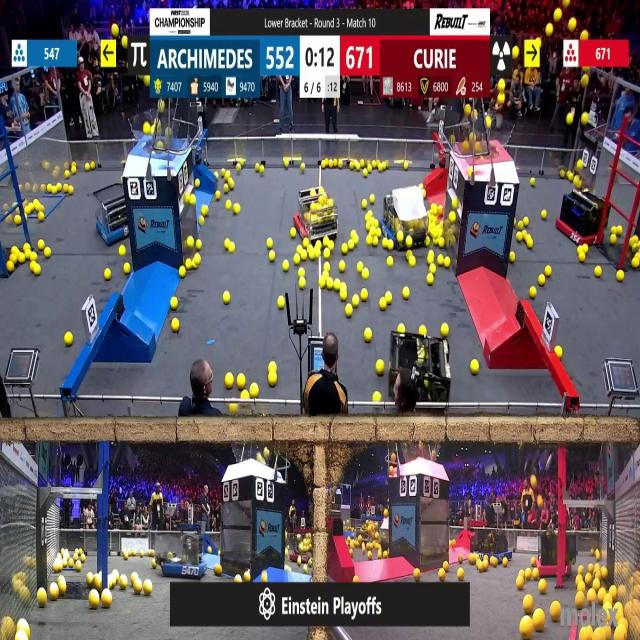ball_airborne: (530, 476, 538, 490), (582, 112, 590, 125), (554, 8, 562, 21), (567, 115, 574, 129), (582, 75, 590, 87), (568, 20, 576, 32), (545, 24, 552, 36), (464, 104, 471, 116), (498, 79, 505, 90), (498, 94, 504, 106), (144, 124, 150, 136), (112, 26, 118, 38), (514, 46, 520, 58), (144, 74, 150, 86), (582, 31, 589, 41), (536, 496, 542, 507), (462, 142, 468, 153), (474, 142, 480, 153), (120, 37, 126, 48), (562, 0, 570, 8), (486, 116, 492, 126), (576, 160, 582, 170), (158, 142, 165, 150), (265, 449, 271, 458), (256, 454, 262, 463), (161, 103, 166, 111), (472, 110, 477, 118)
ball_ground: (532, 612, 544, 632), (521, 618, 533, 638), (551, 602, 562, 620), (34, 588, 44, 606), (101, 592, 112, 608), (91, 592, 101, 609), (523, 596, 533, 613), (224, 374, 233, 390), (59, 580, 68, 596), (575, 594, 584, 609), (143, 582, 152, 596), (237, 375, 246, 389), (134, 582, 143, 596), (470, 359, 478, 374), (94, 574, 102, 589), (65, 334, 74, 347), (538, 580, 546, 594), (377, 360, 385, 374), (588, 590, 596, 604), (578, 629, 588, 640), (269, 374, 278, 386), (442, 323, 450, 336), (172, 319, 180, 332), (250, 384, 258, 397), (363, 328, 371, 341), (517, 576, 525, 589), (380, 300, 388, 312), (314, 247, 322, 259), (119, 576, 127, 588), (556, 346, 563, 359), (618, 271, 626, 282), (214, 564, 222, 575), (537, 275, 545, 286), (186, 238, 194, 249), (395, 233, 403, 244), (222, 291, 229, 303), (172, 296, 178, 310), (278, 296, 285, 308), (346, 306, 353, 318), (414, 568, 421, 580), (360, 289, 367, 301), (34, 265, 41, 277), (352, 295, 359, 307), (386, 291, 393, 303), (406, 237, 413, 249), (88, 572, 95, 584), (269, 250, 276, 262), (374, 392, 382, 402), (322, 249, 330, 259), (242, 390, 250, 400), (334, 281, 342, 291), (262, 572, 270, 582), (230, 405, 238, 415), (576, 583, 584, 593), (108, 575, 114, 588), (450, 212, 457, 223), (632, 257, 639, 268), (270, 361, 277, 372), (452, 199, 459, 210), (531, 568, 538, 579), (402, 287, 408, 299), (298, 278, 304, 290), (123, 264, 129, 276), (268, 238, 274, 250), (427, 274, 433, 286), (364, 237, 372, 246), (308, 248, 314, 260), (482, 561, 490, 570), (419, 325, 426, 335), (595, 268, 602, 278), (179, 268, 186, 278), (341, 290, 348, 300), (526, 239, 533, 249), (370, 237, 377, 247), (440, 569, 447, 579), (244, 571, 251, 581), (517, 233, 524, 243), (17, 253, 24, 263), (342, 244, 349, 254), (507, 252, 514, 262), (438, 256, 445, 266), (386, 240, 393, 250), (540, 210, 547, 220), (37, 212, 44, 222), (491, 557, 498, 567), (188, 196, 195, 206), (183, 192, 190, 202), (230, 244, 237, 254), (430, 205, 437, 215), (530, 287, 536, 298), (458, 568, 464, 579), (44, 247, 50, 258), (7, 263, 13, 274), (544, 267, 550, 278), (428, 252, 434, 263), (223, 240, 229, 251), (352, 232, 358, 243), (75, 561, 81, 572), (236, 574, 243, 583), (397, 323, 404, 332), (297, 269, 304, 278), (356, 264, 363, 273), (302, 251, 309, 260), (340, 263, 346, 273), (387, 256, 393, 266), (105, 270, 111, 280), (578, 252, 584, 262), (290, 229, 296, 239), (283, 262, 289, 272), (118, 246, 124, 256), (194, 240, 200, 250), (235, 204, 241, 214), (193, 254, 199, 264), (203, 206, 209, 216), (225, 201, 231, 211), (444, 561, 450, 571), (38, 240, 44, 250), (320, 279, 326, 289), (326, 280, 332, 290), (293, 254, 299, 264), (425, 238, 431, 248), (458, 554, 464, 564), (610, 236, 616, 246), (446, 260, 452, 270), (348, 242, 354, 252), (185, 261, 191, 271), (519, 568, 525, 578), (25, 243, 31, 253), (469, 554, 475, 564), (323, 264, 330, 272), (31, 252, 38, 260), (364, 223, 371, 231), (8, 253, 15, 261), (363, 214, 370, 222), (227, 182, 232, 193), (362, 270, 368, 279), (361, 201, 367, 210), (440, 239, 446, 248), (193, 179, 199, 188), (524, 217, 530, 226), (258, 166, 264, 175), (376, 229, 382, 238), (618, 225, 624, 234), (432, 238, 438, 247), (132, 573, 138, 582), (411, 256, 416, 266), (502, 558, 507, 568), (328, 240, 333, 250), (530, 178, 536, 186), (303, 240, 309, 248), (429, 266, 435, 274), (66, 184, 72, 192), (610, 225, 616, 233), (46, 184, 52, 192), (11, 246, 17, 254), (577, 566, 583, 574), (531, 558, 536, 567), (200, 216, 205, 225), (284, 161, 289, 170), (299, 164, 304, 173), (353, 575, 359, 582), (583, 245, 589, 252), (321, 272, 328, 278), (220, 171, 226, 178), (403, 163, 408, 171), (368, 194, 373, 202), (65, 171, 70, 179), (84, 163, 89, 171), (362, 169, 367, 177), (223, 184, 228, 192), (92, 163, 97, 171), (14, 216, 19, 224), (237, 165, 242, 173), (58, 184, 63, 192), (560, 171, 565, 179), (596, 552, 601, 560), (152, 560, 156, 569), (216, 190, 220, 199), (296, 246, 301, 253), (384, 552, 388, 560), (305, 566, 309, 574), (379, 552, 383, 560), (367, 552, 371, 560), (123, 554, 128, 560), (140, 552, 145, 558), (408, 250, 413, 256), (287, 566, 292, 572), (72, 168, 76, 175), (420, 183, 424, 189), (208, 546, 212, 552)
goal: (460, 118, 516, 159), (126, 117, 185, 153)
robot_blue: (162, 526, 206, 578), (95, 186, 132, 246), (473, 528, 513, 562)
robot_red: (556, 186, 604, 244), (296, 188, 340, 241), (538, 531, 579, 579), (286, 535, 311, 565)
